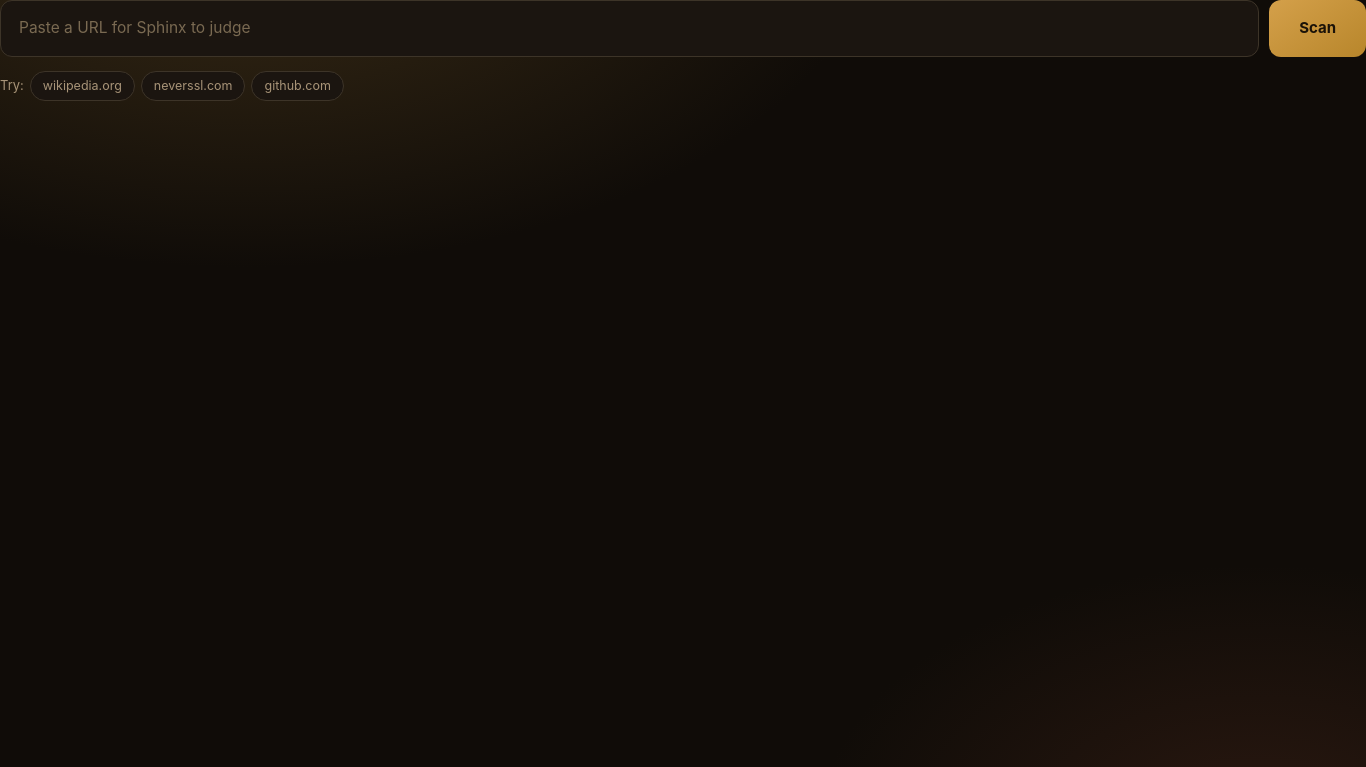
Test case: Scanner › reports the landing page after a redirect, not the URL that was typed
The image size is (1366, 767).
Type "https://short.example/abc" into the field named "URL to scan" at (630, 28), box [0,0,1259,57]
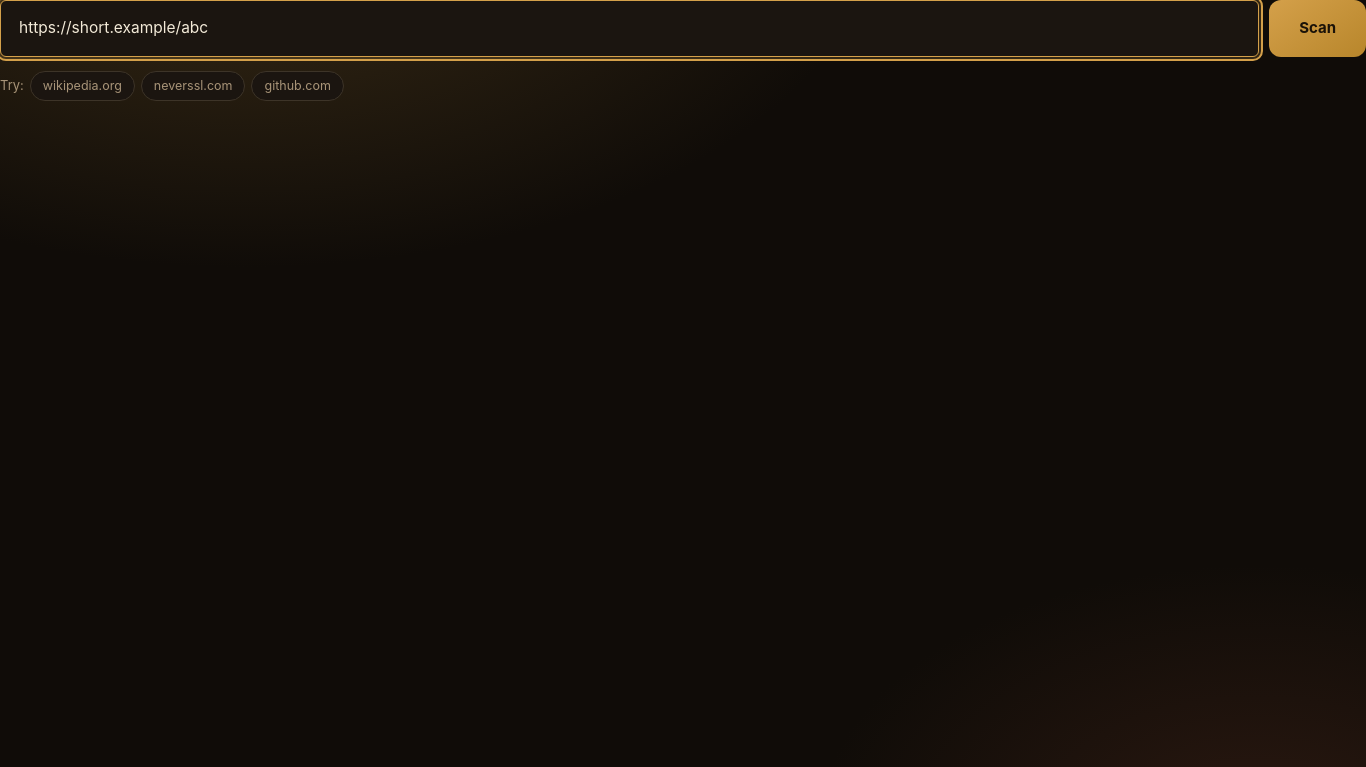
Click the button "Scan" at (1318, 28), box [1269,0,1365,57]
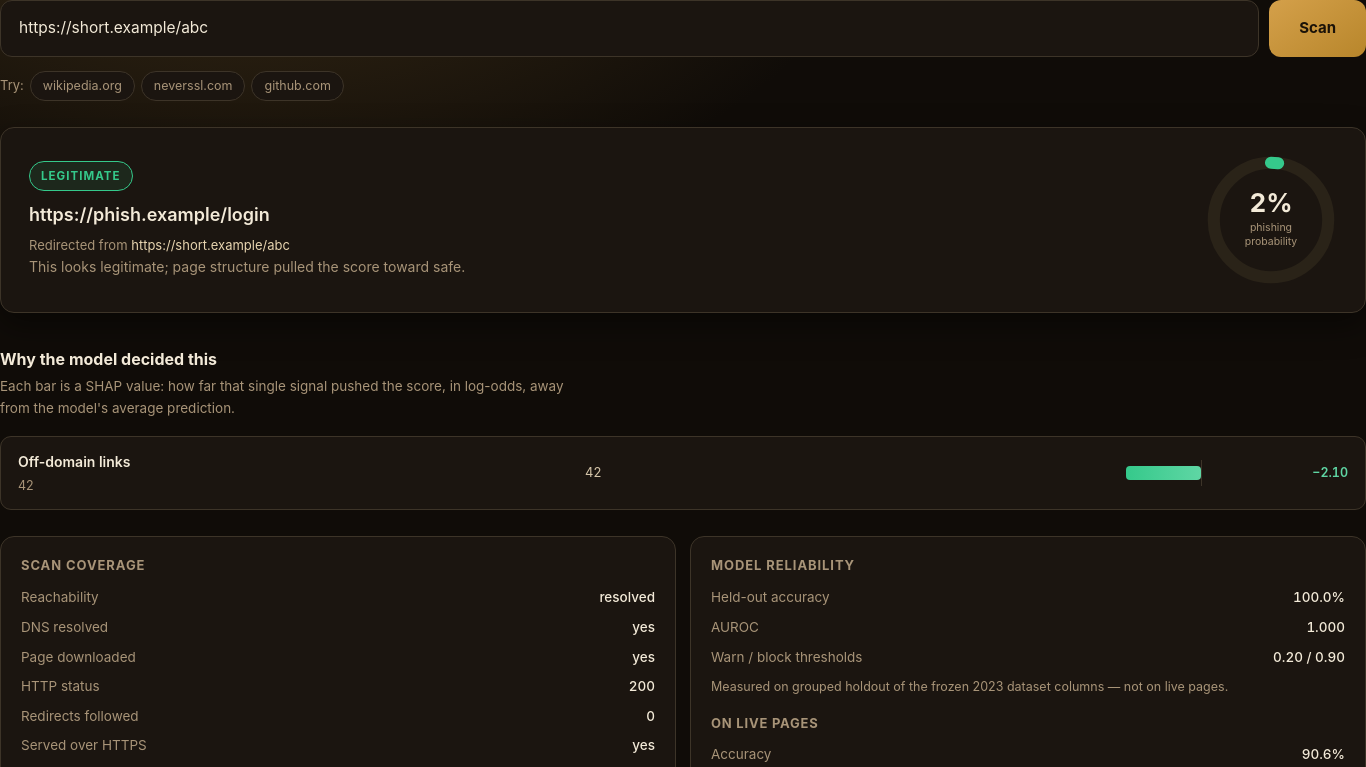
Result: the heading "https://phish.example/login" is shown at [29,204,270,225]
Result: the text "Redirected from https://short.example/abc" is shown at [29,238,290,254]
